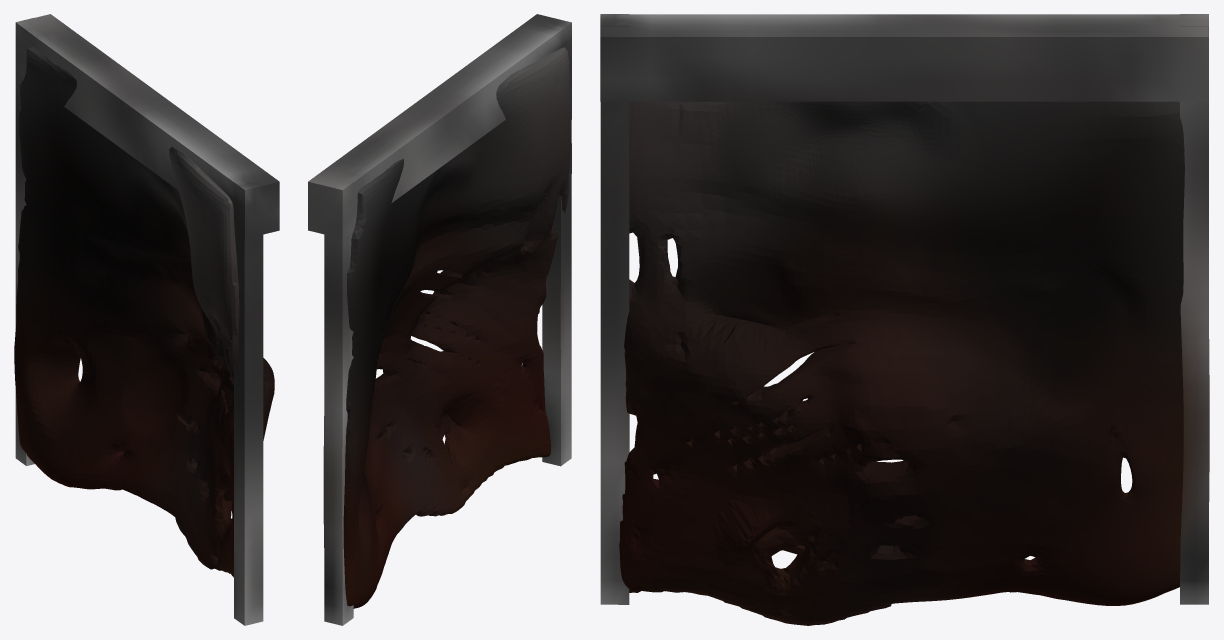
The model's file is Porte bombée(2).fbx.
3 renders of one model, left to right at view 1: azimuth 30°, elevation 25°; view 2: azimuth 150°, elevation 25°; view 3: azimuth 270°, elevation 25°, orthographic. The views are drawn at different scales.
Visible parts, largest first — view 1: Porte 5, Porte 4, Porte 3, Porte 2; view 2: Porte 5, Porte 4, Porte 2, Porte 3; view 3: Porte 5, Porte 4, Porte 3, Porte 2.
Boxes of the visible parts, x1,y1,x2,y2 form: Porte 5: (14,46,274,577); Porte 4: (15,14,279,238); Porte 3: (234,177,263,625); Porte 2: (15,18,44,465); Porte 5: (343,47,570,608); Porte 4: (308,14,571,238); Porte 2: (323,177,353,625); Porte 3: (542,18,571,466); Porte 5: (619,101,1184,625); Porte 4: (600,14,1208,101); Porte 3: (600,14,629,604); Porte 2: (1180,14,1209,604).
Size of the model in its own units: 0.9757 by 3.63 by 3.42.
